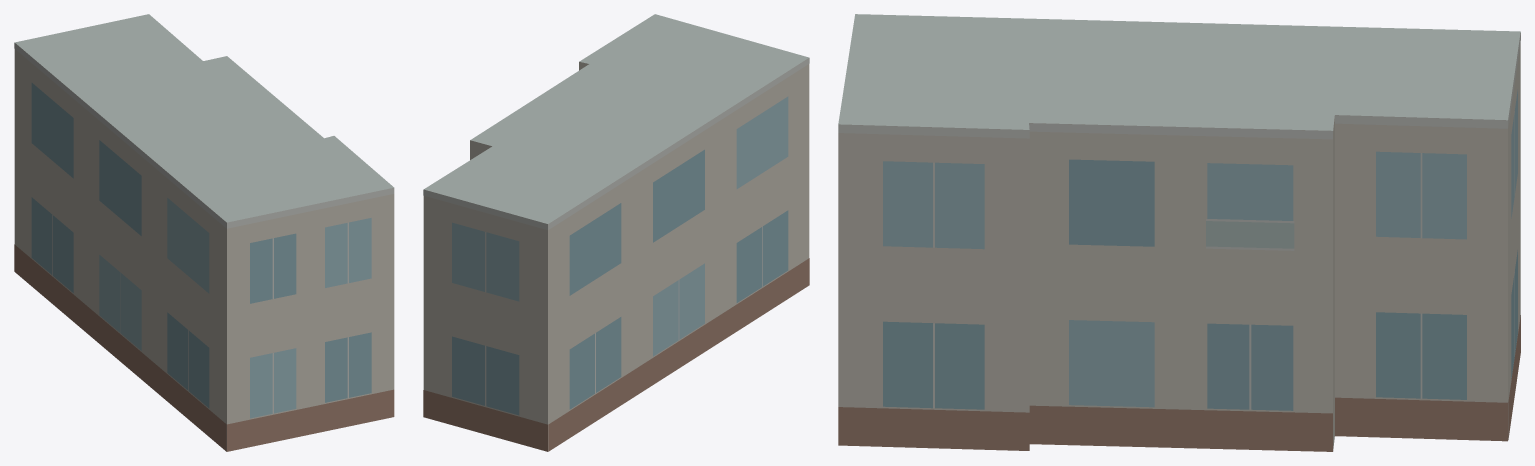
The model's file is survey-upis-32993680.glb.
3 views of the same model, side by side, from view 1: azimuth 30°, elevation 25°; view 2: azimuth 150°, elevation 25°; view 3: azimuth 270°, elevation 25° (orthographic). The views are drawn at different scales.
Visible parts, largest first — view 1: survey-upis-32993680.tmp; view 2: survey-upis-32993680.tmp; view 3: survey-upis-32993680.tmp.
Part boxes in pixels (bbox=[...]): survey-upis-32993680.tmp: bbox=[14, 14, 394, 451]; survey-upis-32993680.tmp: bbox=[423, 14, 809, 451]; survey-upis-32993680.tmp: bbox=[838, 14, 1520, 451].
Size of the model in its own units: 7.11 by 9.1 by 17.54.
